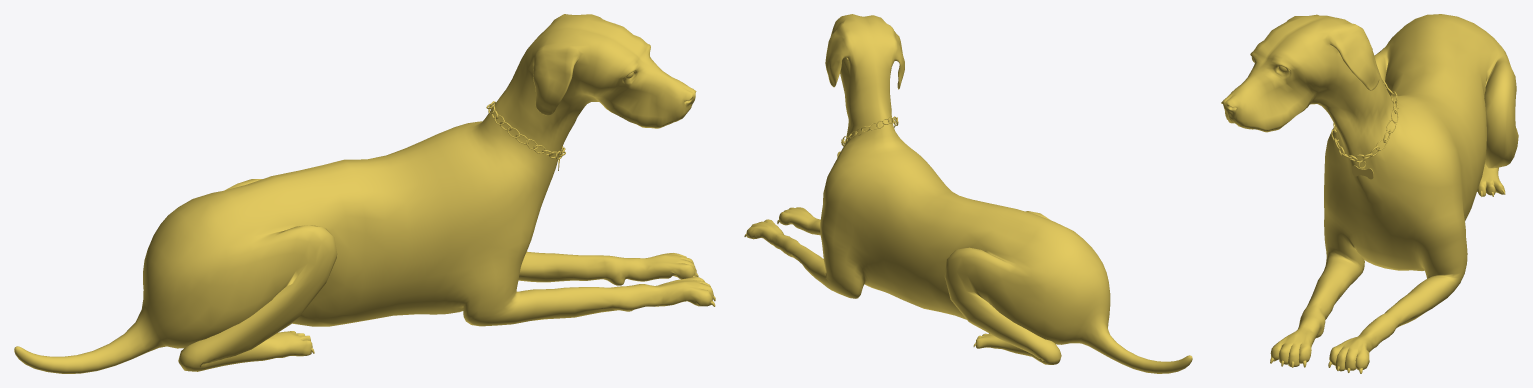
The model's file is Dalmatian.obj.
The picture shows the model from 3 angles, left to right: view 1: azimuth 30°, elevation 25°; view 2: azimuth 150°, elevation 25°; view 3: azimuth 270°, elevation 25°; orthographic projection. The views are drawn at different scales.
Size of the model in its own units: 981 by 445 by 405.
